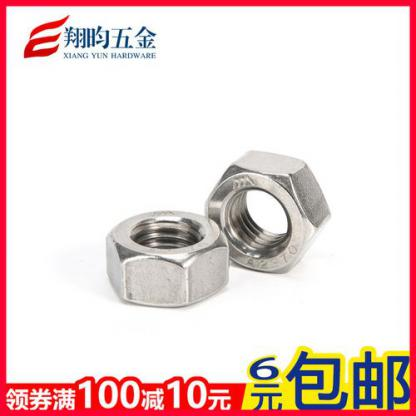FOD: (203, 149, 333, 274), (100, 210, 231, 308)
